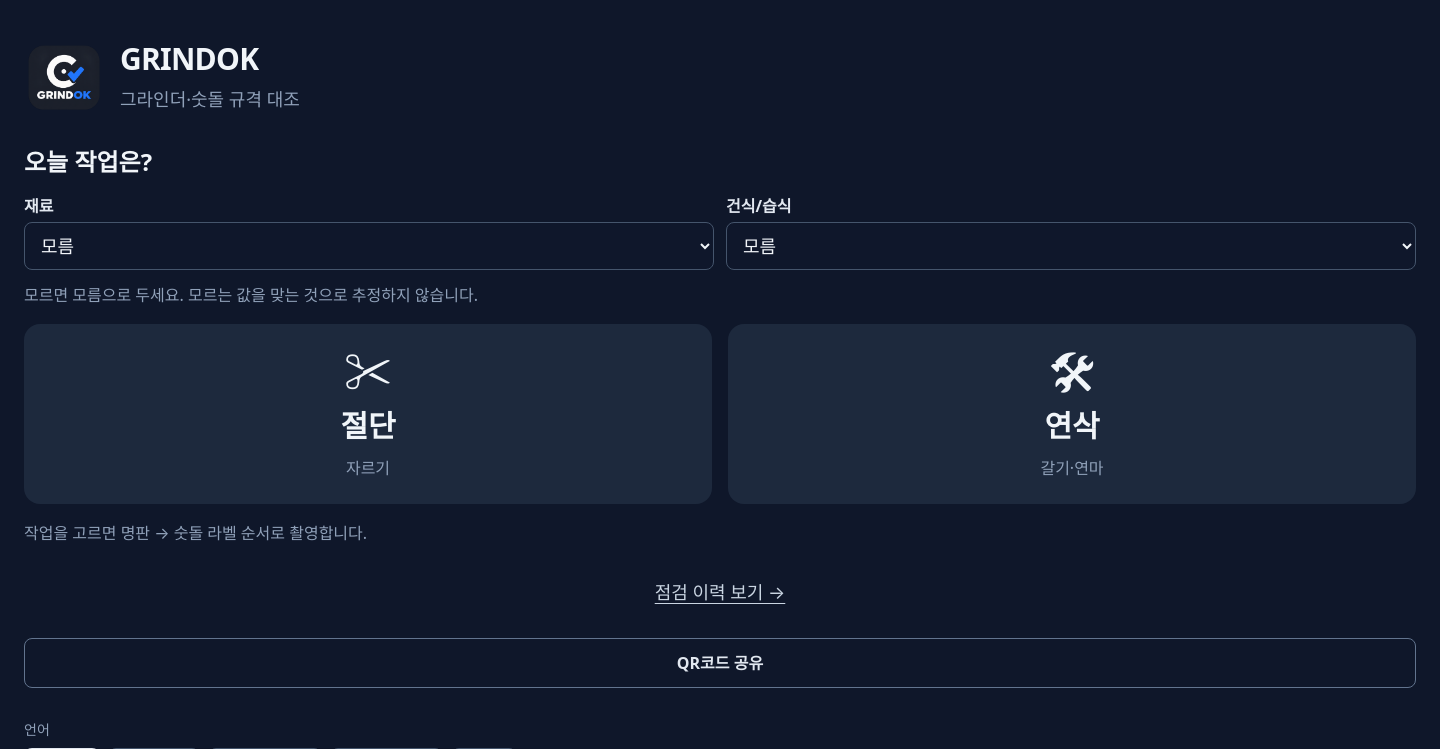
Test: 메인 화면 — 새 점검 준비 실패와 다시 시도 › 입력 draft 삭제가 실패하면 시작을 막고 상태를 바꾸지 않으며 전용 안내와 다시 시도를 보인다
The width and height of the screenshot is (1440, 749).
Step 1. Click the button "🛠 연삭 갈기·연마" → (1072, 414), box [728,324,1416,504]
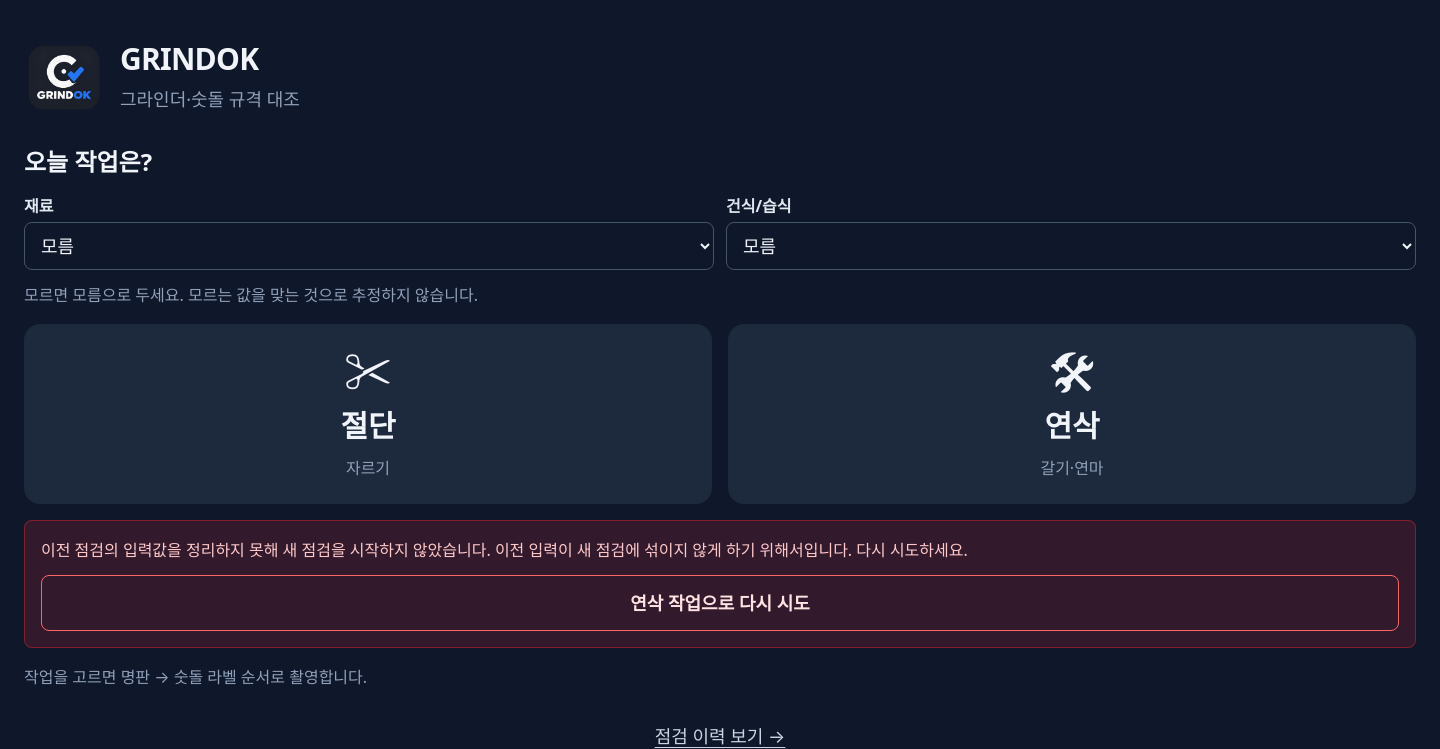
Check: the message shows "이전 점검의 입력값을 정리하지 못해 새 점검을 시작하지 않았습니다. 이전 입력이 새 점검에 섞이지 않게 하기 위해서입니다. 다시 시도하세요.", box [41,539,968,561]
Check: the button "연삭 작업으로 다시 시도" is enabled, box [41,575,1399,631]
